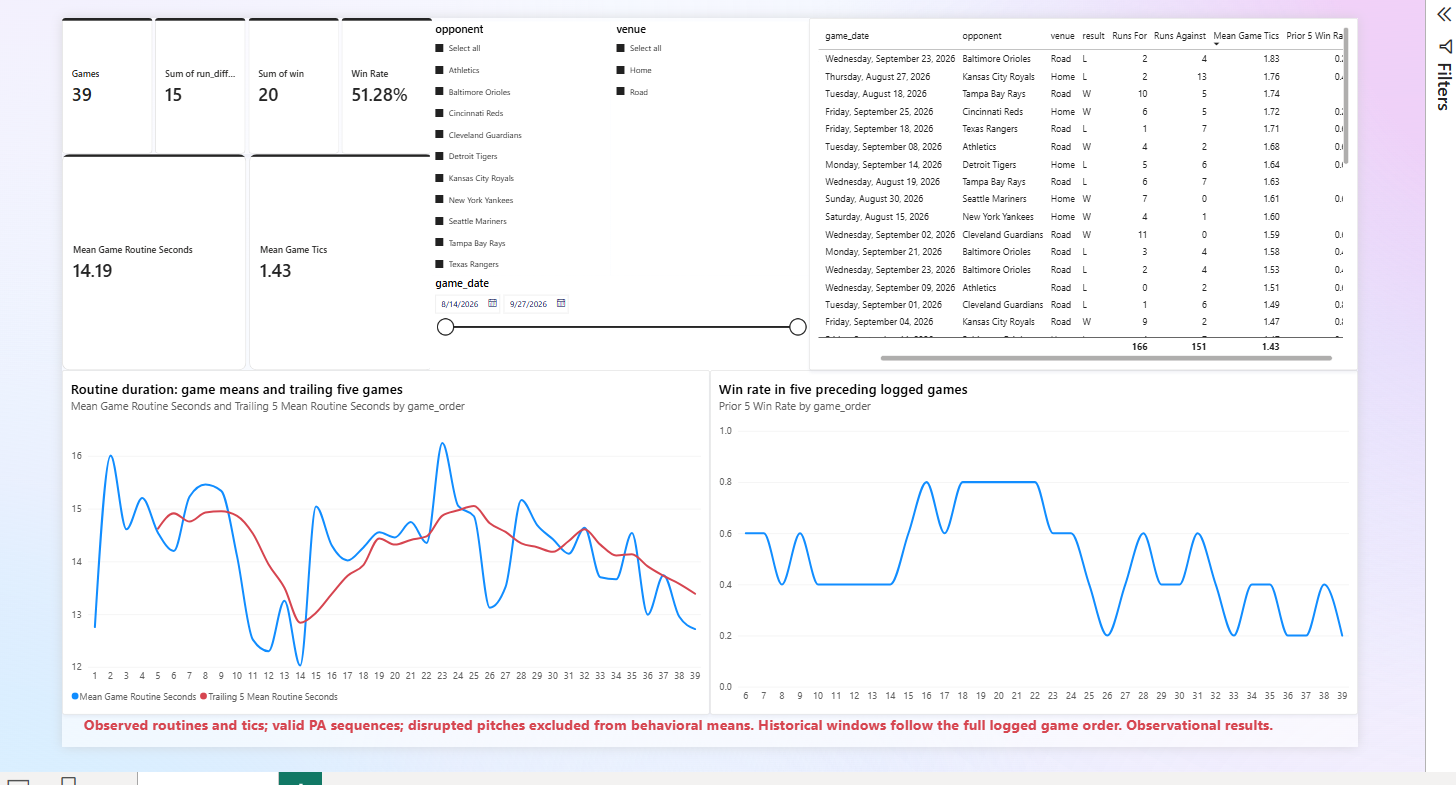

The dashboard page shown, as its layout file describes it:
{"tool":"powerbi","page":{"name":"Game overview","canvas":[1920,1080],"ordinal":0},"visuals":[{"type":"cardVisual","fields":{"Data":["DimGame.Games","DimGame.Run Differential","DimGame.Wins","DimGame.Win Rate"]},"box":[0,0,776,202],"z":0},{"type":"cardVisual","fields":{"Data":["DimGame.Mean Game Routine Seconds","DimGame.Mean Game Tics"]},"box":[0,202,776,320],"z":1000},{"type":"slicer","fields":{"Values":["DimGame.opponent"]},"box":[0,522,388,376],"z":2000},{"type":"slicer","fields":{"Values":["DimGame.venue"]},"box":[388,522,388,376],"z":3000},{"type":"slicer","fields":{"Values":["DimGame.game_date"]},"box":[0,900,776,132],"z":4000},{"type":"lineChart","title":"Routine duration: game means and trailing five games","fields":{"Category":["DimGame.game_order"],"Y":["DimGame.Mean Game Routine Seconds","DimGame.Trailing 5 Mean Routine Seconds"]},"box":[776,522,1144,510],"z":5000},{"type":"lineChart","title":"Win rate in five preceding logged games","fields":{"Category":["DimGame.game_order"],"Y":["DimGame.Prior 5 Win Rate"]},"box":[776,0,1144,522],"z":6000},{"type":"textbox","box":[0,1031.7,1826.7,48.3],"z":8000}]}

Visuals, with their boxes on the page's 1920x1080 design canvas (x1, y1, x2, y2). These are canvas units, not pixel positions in the 1456x785 screenshot, which may show the page scaled, cropped or inside an application window:
cardVisual - DimGame.Games x DimGame.Run Differential: 0 0 776 202
cardVisual - DimGame.Mean Game Routine Seconds x DimGame.Mean Game Tics: 0 202 776 522
slicer - DimGame.opponent: 0 522 388 898
slicer - DimGame.venue: 388 522 776 898
slicer - DimGame.game_date: 0 900 776 1032
"Routine duration: game means and trailing five games" lineChart: 776 522 1920 1032
"Win rate in five preceding logged games" lineChart: 776 0 1920 522
textbox: 0 1032 1827 1080
